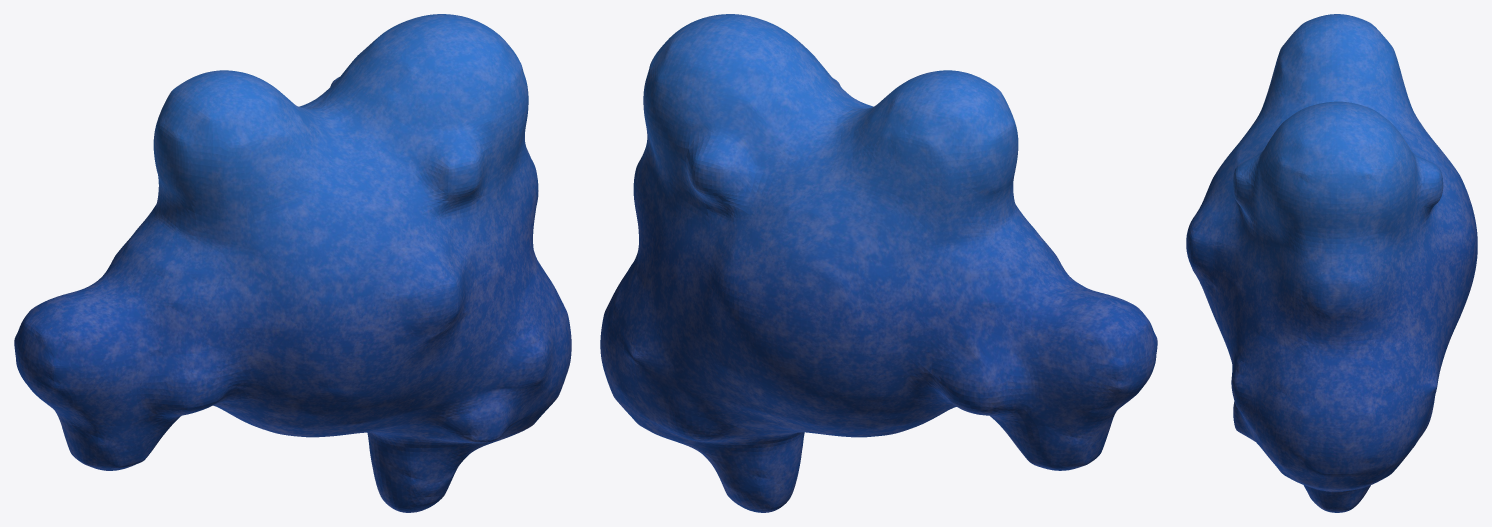
Rendered from though1.glb.
The picture shows the model from 3 angles, left to right: view 1: azimuth 30°, elevation 25°; view 2: azimuth 150°, elevation 25°; view 3: azimuth 270°, elevation 25°; orthographic projection. The views are drawn at different scales.
Parts seen in each view (by area): view 1: Mball.024; view 2: Mball.024; view 3: Mball.024.
Part boxes in pixels (bbox=[...]): Mball.024: bbox=[14, 14, 571, 512]; Mball.024: bbox=[600, 14, 1157, 512]; Mball.024: bbox=[1186, 14, 1477, 512].
Size of the model in its own units: 0.7584 by 0.6527 by 0.4175.
1 material, 1 textured.
